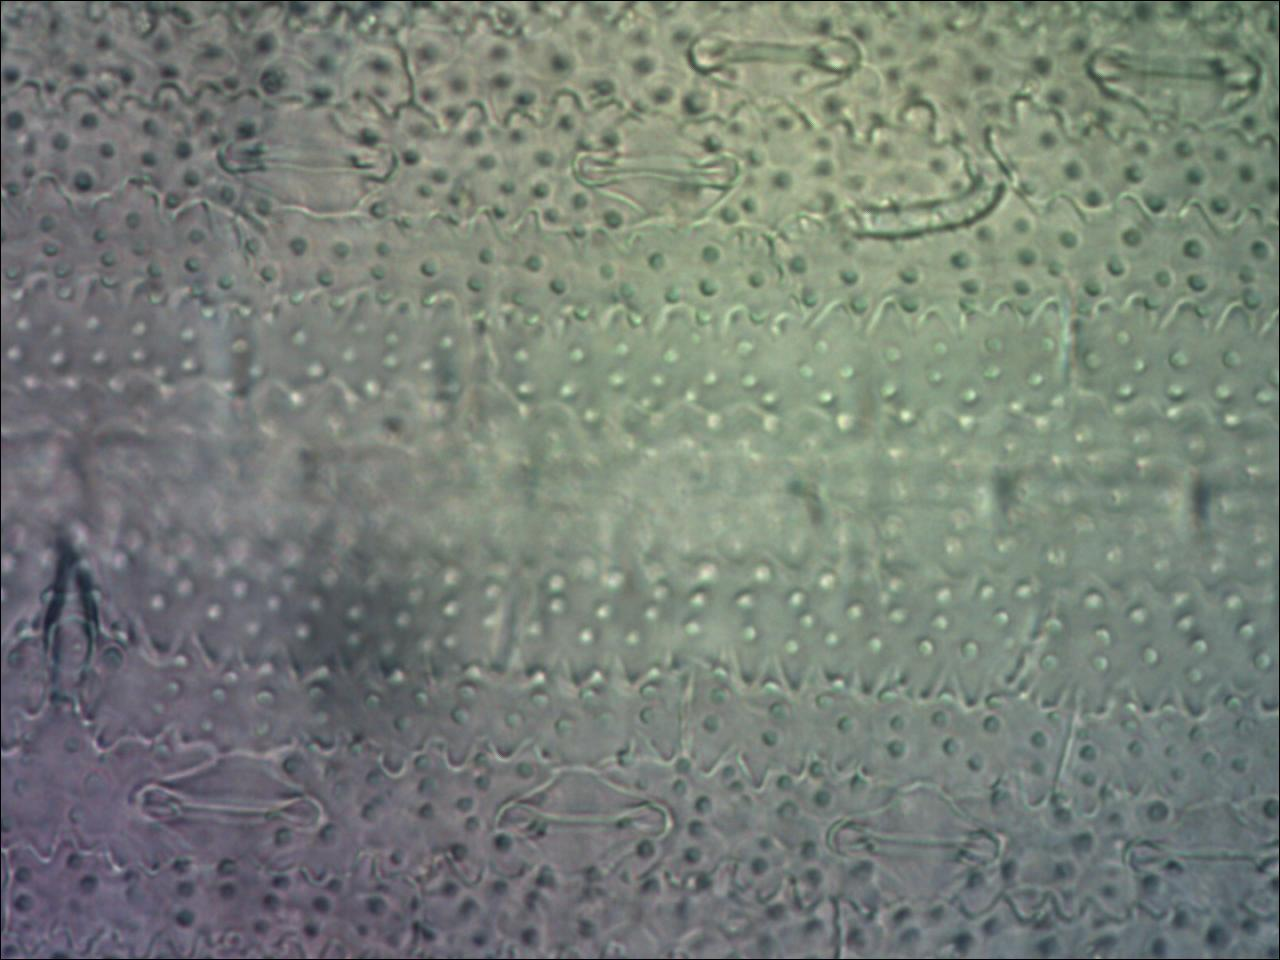stoma: (136, 739, 334, 880), (821, 779, 1017, 906), (213, 98, 400, 222), (1078, 15, 1267, 138), (492, 759, 680, 879), (683, 4, 873, 110), (566, 117, 741, 231), (1120, 798, 1280, 911)
